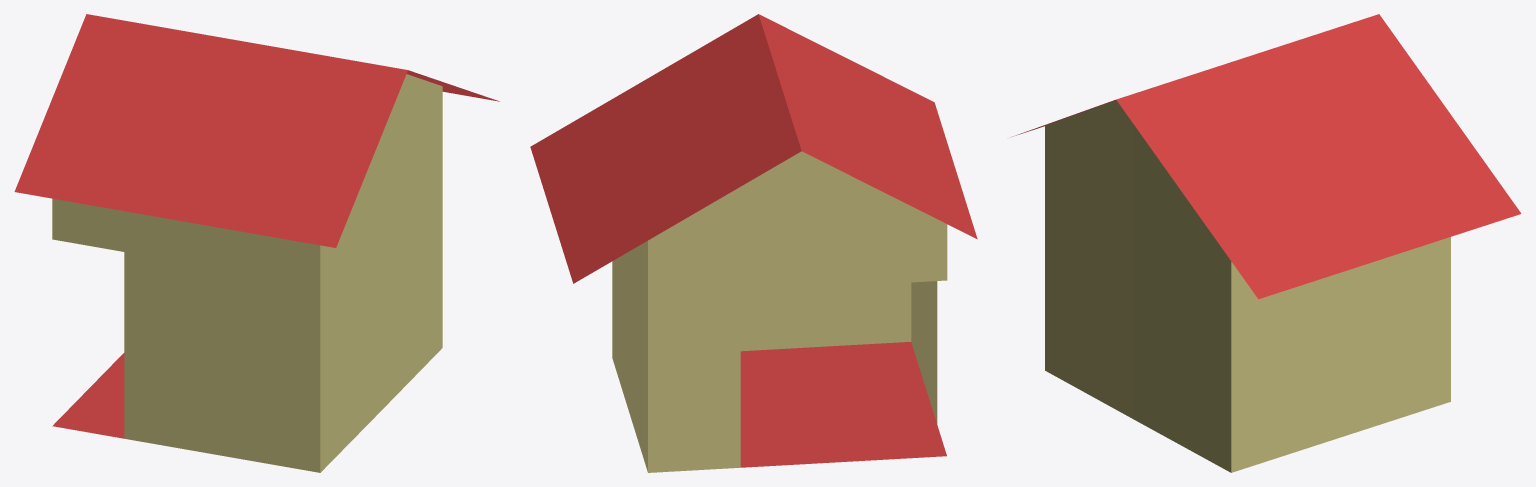
The picture shows the model from 3 angles, left to right: view 1: azimuth 30°, elevation 25°; view 2: azimuth 150°, elevation 25°; view 3: azimuth 270°, elevation 25°; orthographic projection. The views are drawn at different scales.
Size of the model in its own units: 14.42 by 14.01 by 9.88.
